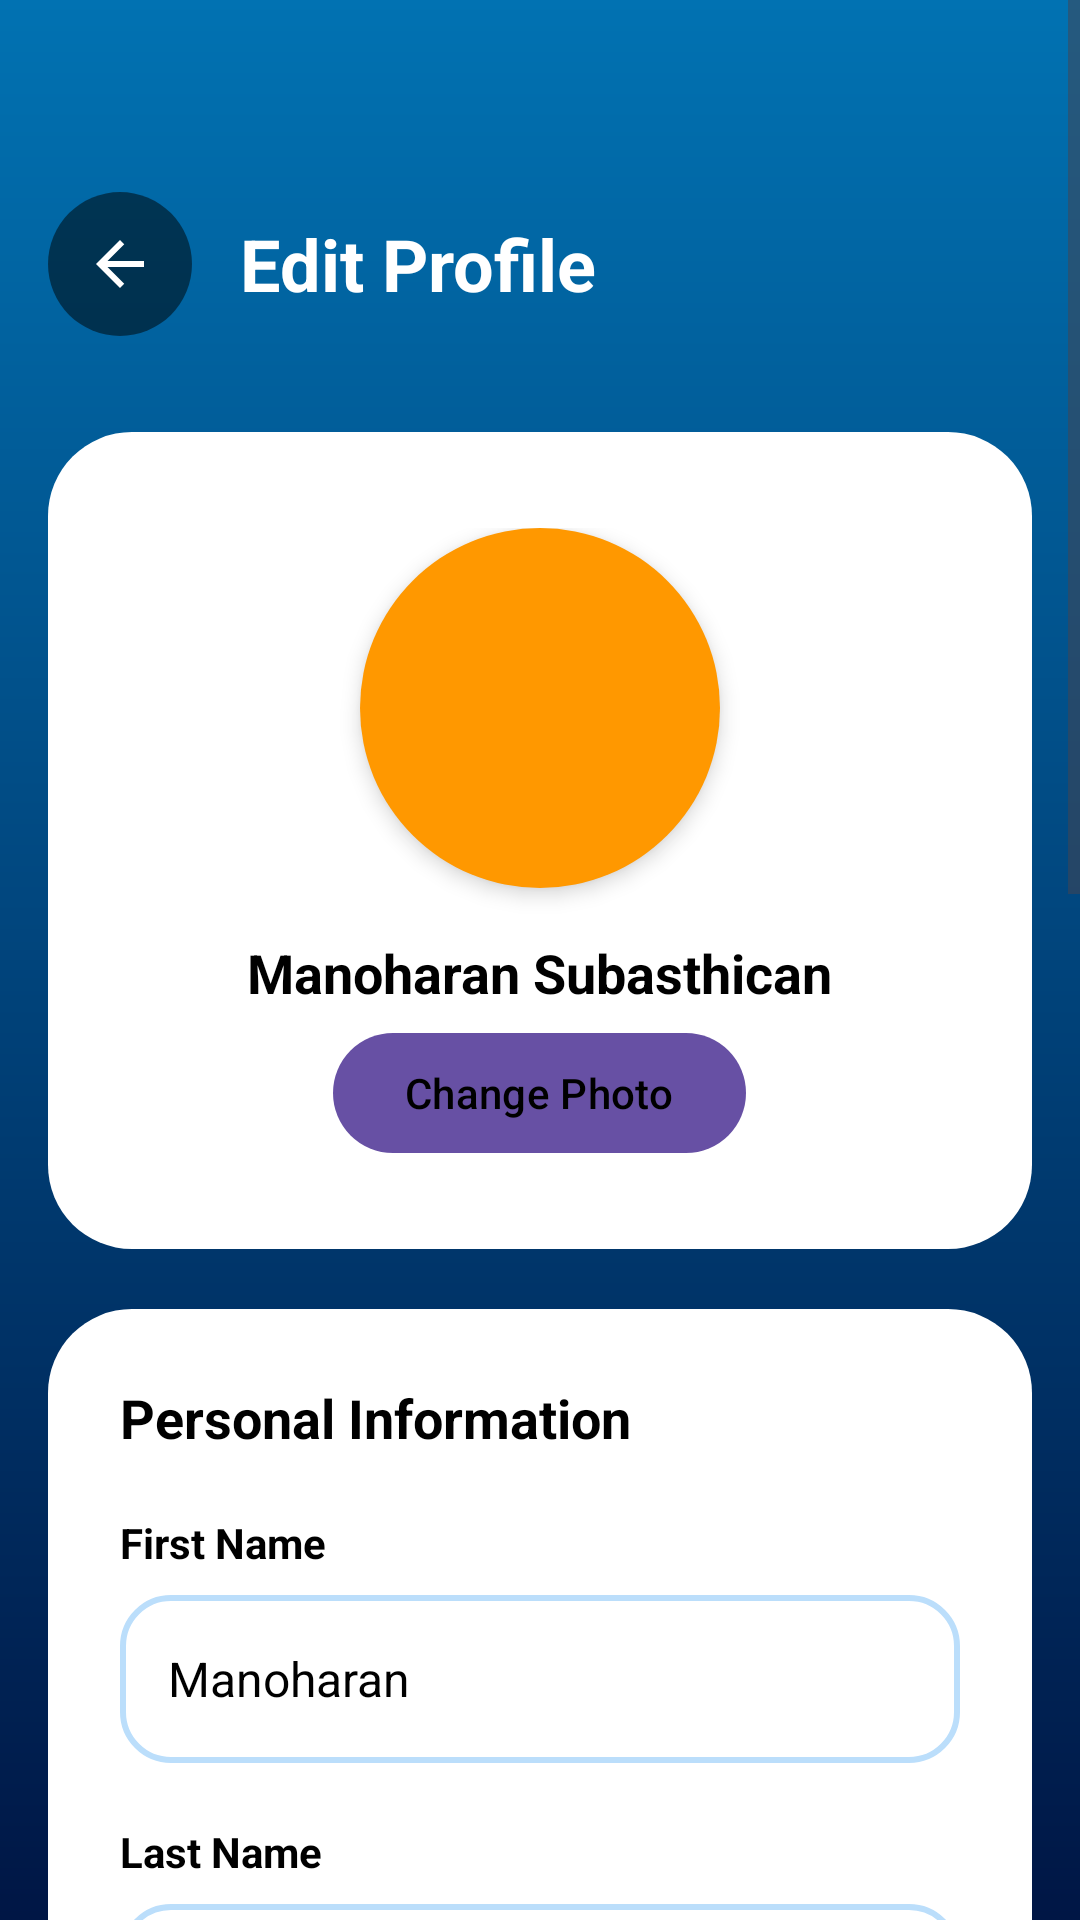

Locate icon controls on the screen. Image size 1080 × 1920, boxes as (x1, y1, x2, y2).
back: (48, 192, 192, 336)
